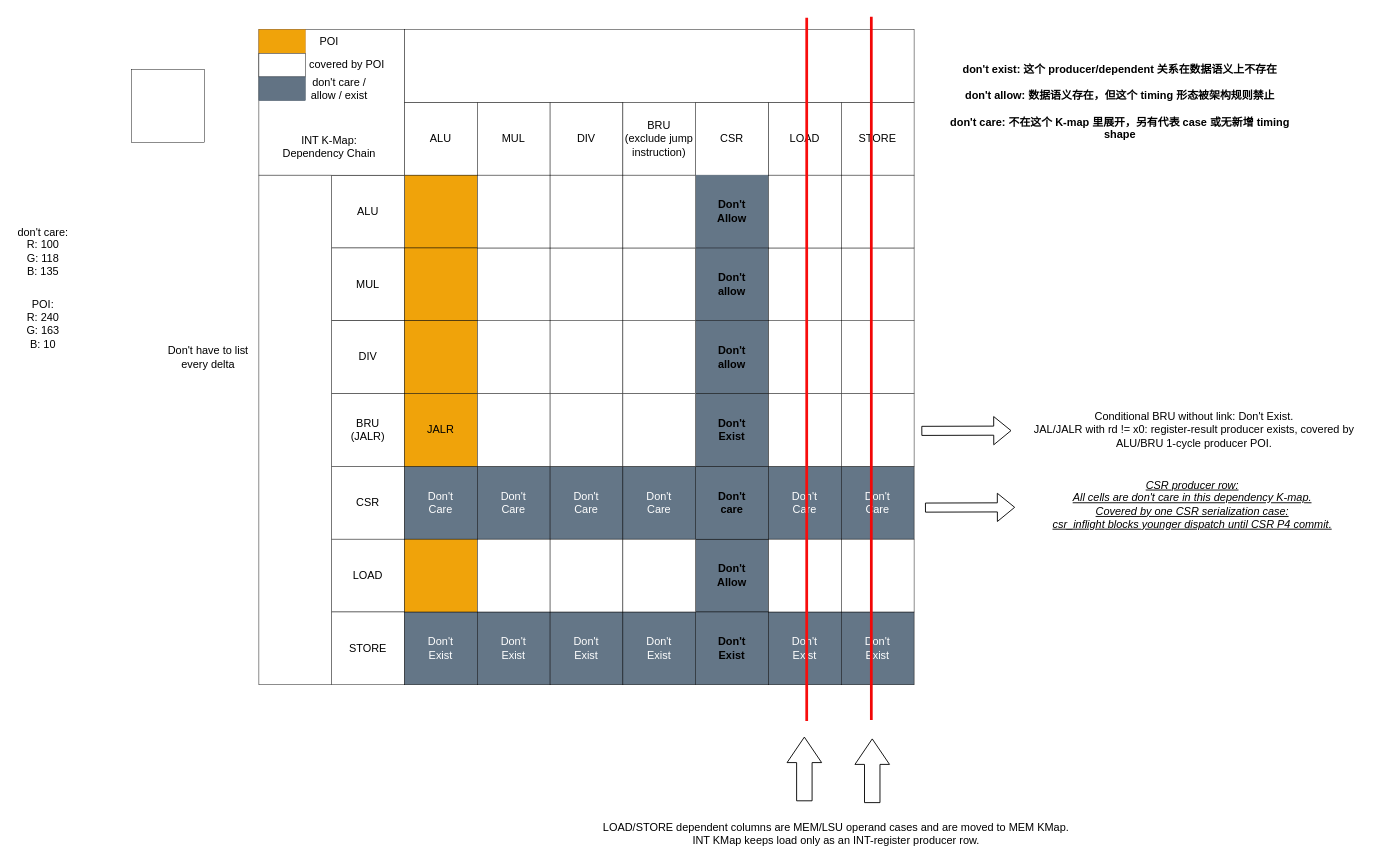
Image size: 1389x864. Some labels were removed from this diagram. The shapes that lost their labels are listed below. From the top down, each one's box as (x1, y1, x2, y2) in pixels, then its label:
(404, 29, 914, 102): Dependency Instructions
(258, 175, 332, 685): Producer Instructions
